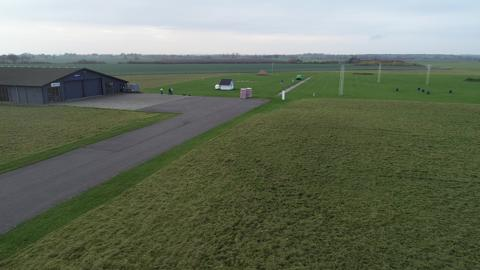RockwoolPallet: (246, 86, 253, 98)
